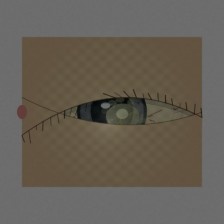corneal_ulcer: (95, 94, 150, 138)
